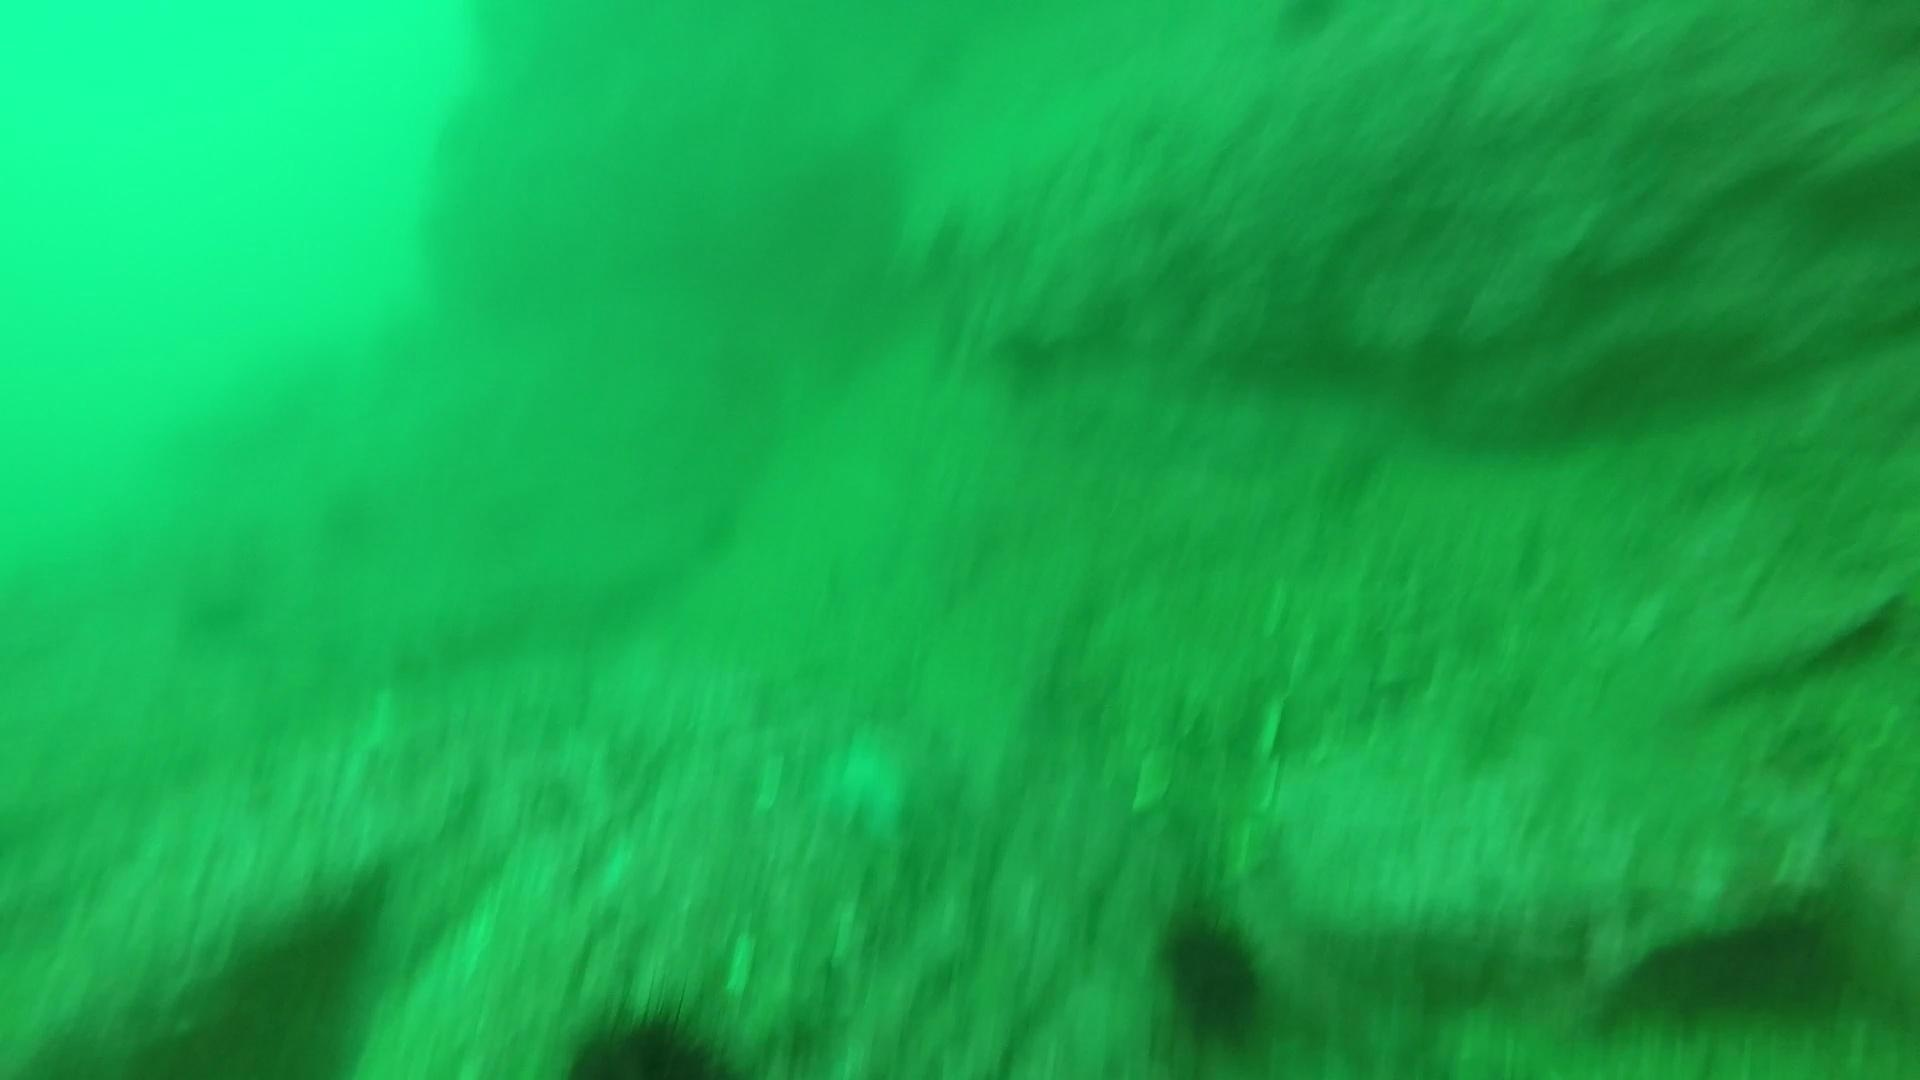echinus: (1600, 891, 1869, 1035), (1150, 905, 1275, 1044), (554, 994, 735, 1077)
starfish: (802, 712, 956, 849)
